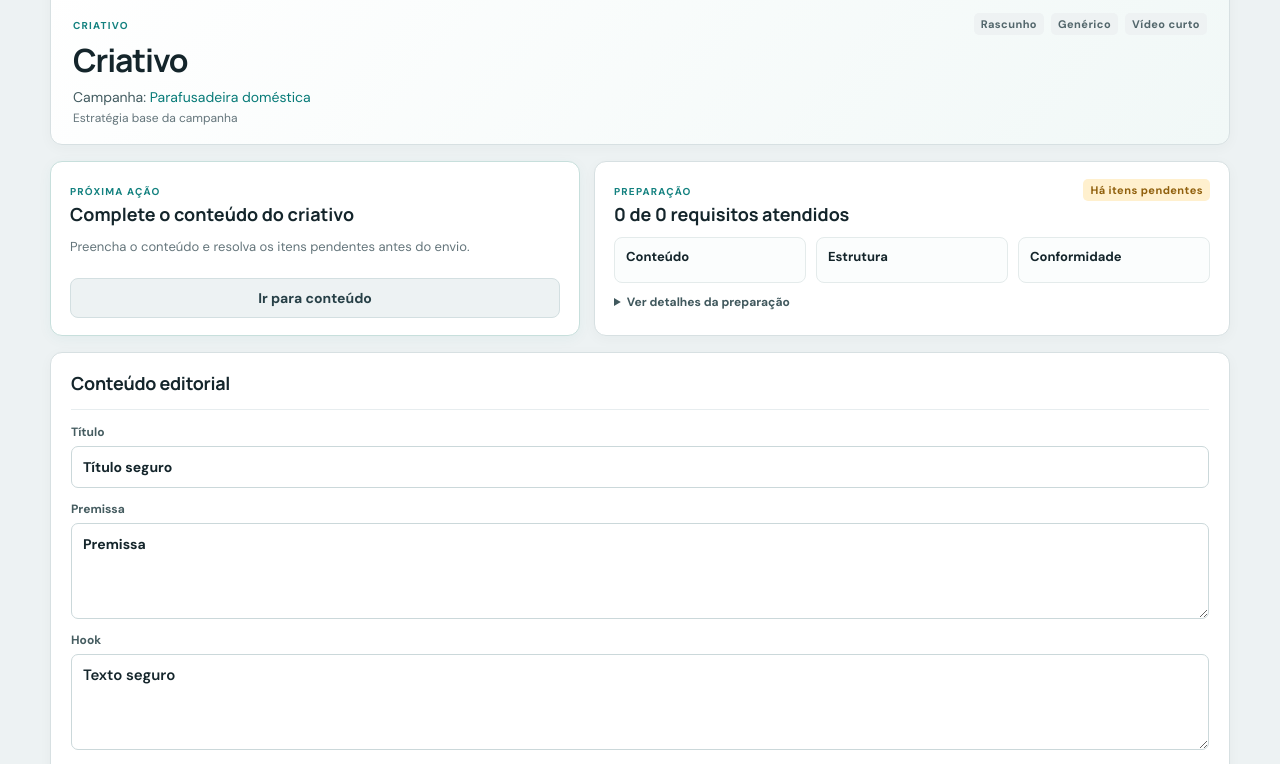
atualização do compliance após salvar › reflete PASS, BLOCK com motivo em pt-BR e PASS novamente
Replace the text in the text box showing "Texto seguro" with "Esta é a melhor parafusadeira do mercado.". click: point(640, 702)
box: x1=71 y1=654 x2=1209 y2=750
(page scrolled)
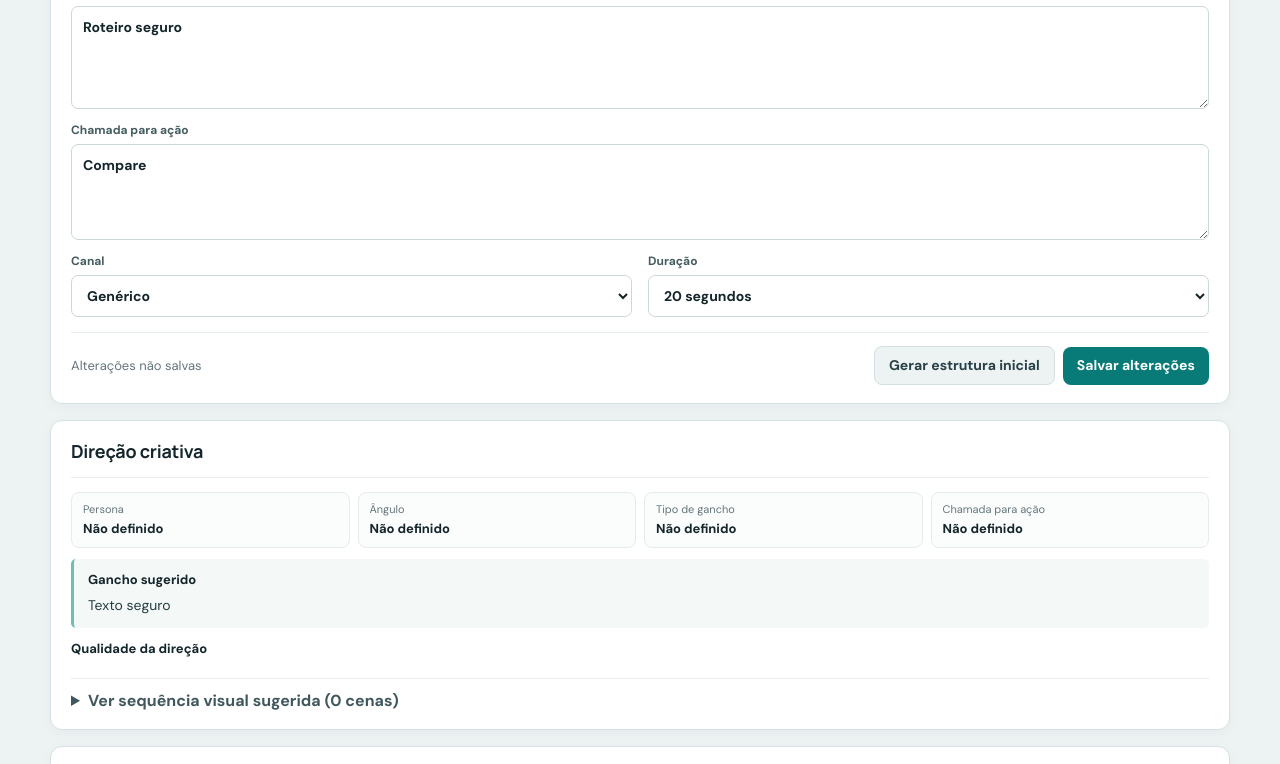
Now the text "Alterações não salvas" is shown, box x1=71 y1=357 x2=202 y2=374
Click the button "Salvar alterações". click: point(1136, 366)
box: x1=1063 y1=347 x2=1209 y2=385
(page scrolled)
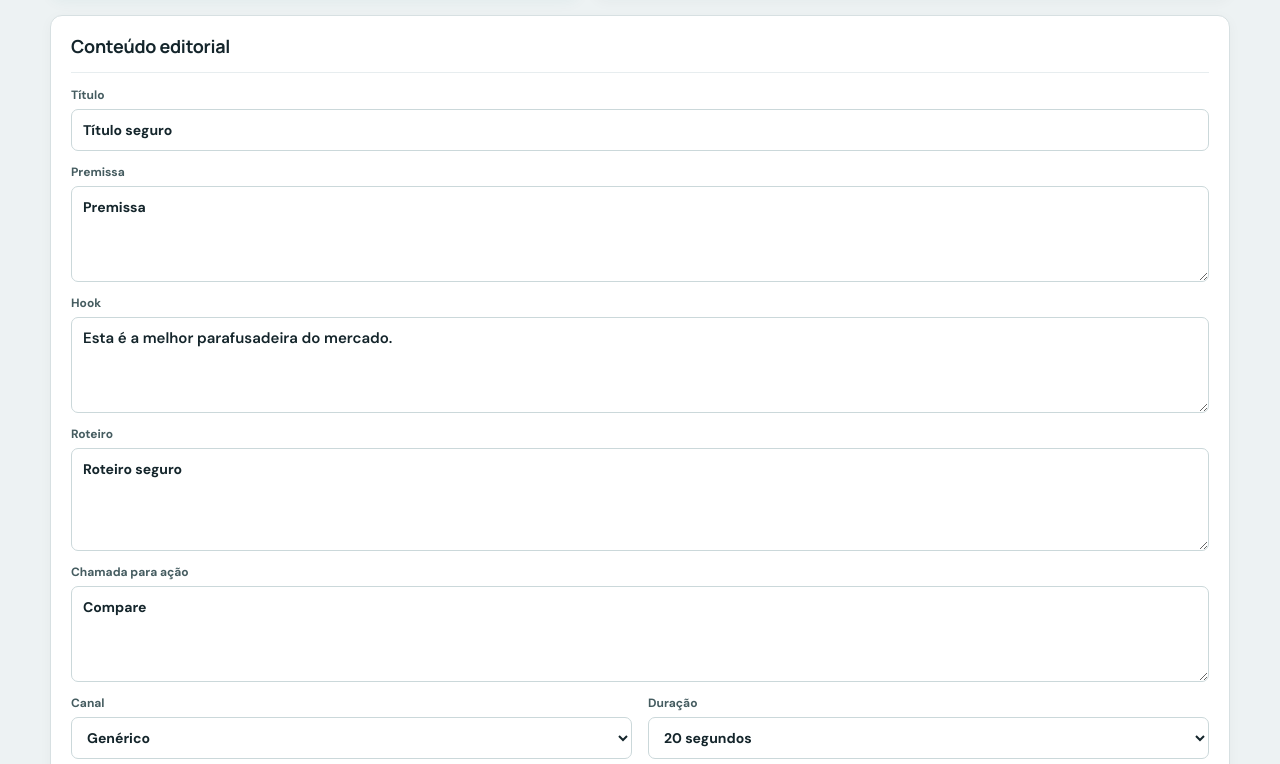
Replace the text in the text box showing "Texto seguro" with "Compare os recursos antes de decidir.". click: point(640, 365)
box: x1=71 y1=317 x2=1209 y2=413
(page scrolled)
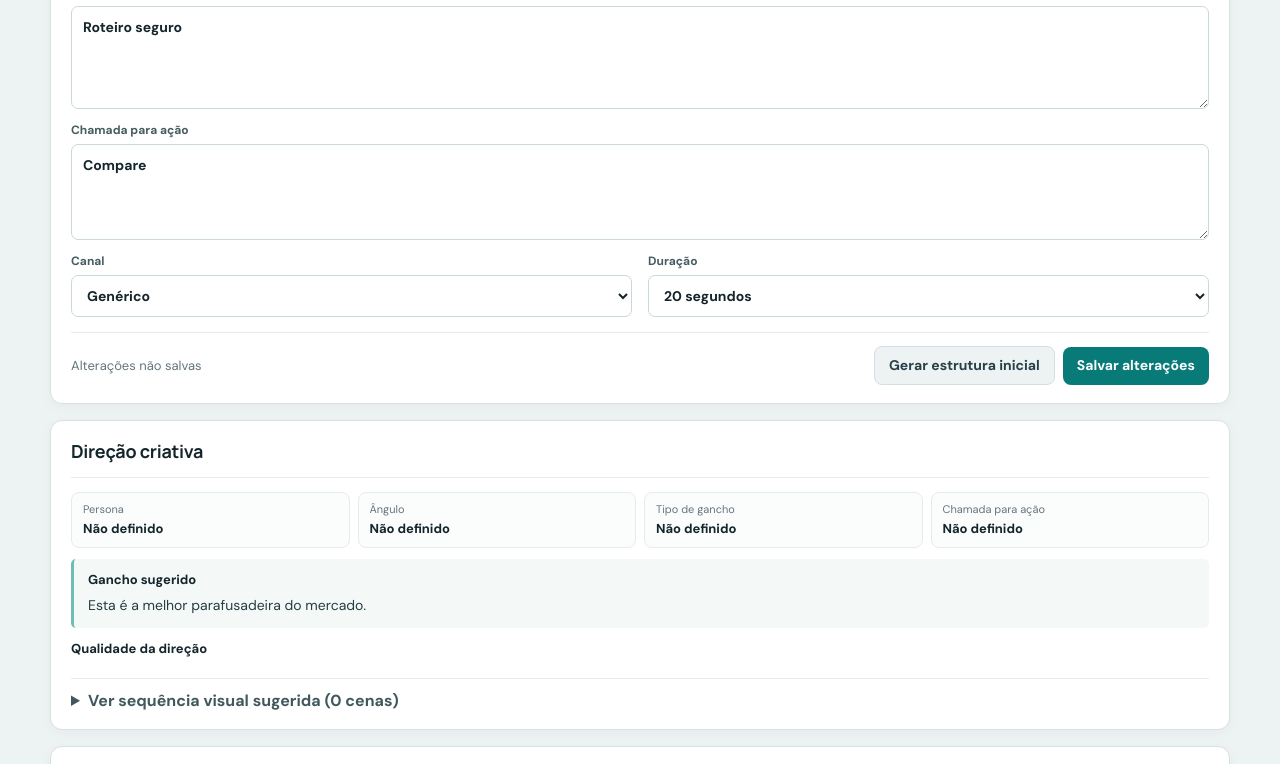
Click the button "Salvar alterações". click: point(1136, 366)
box: x1=1063 y1=347 x2=1209 y2=385
(page scrolled)
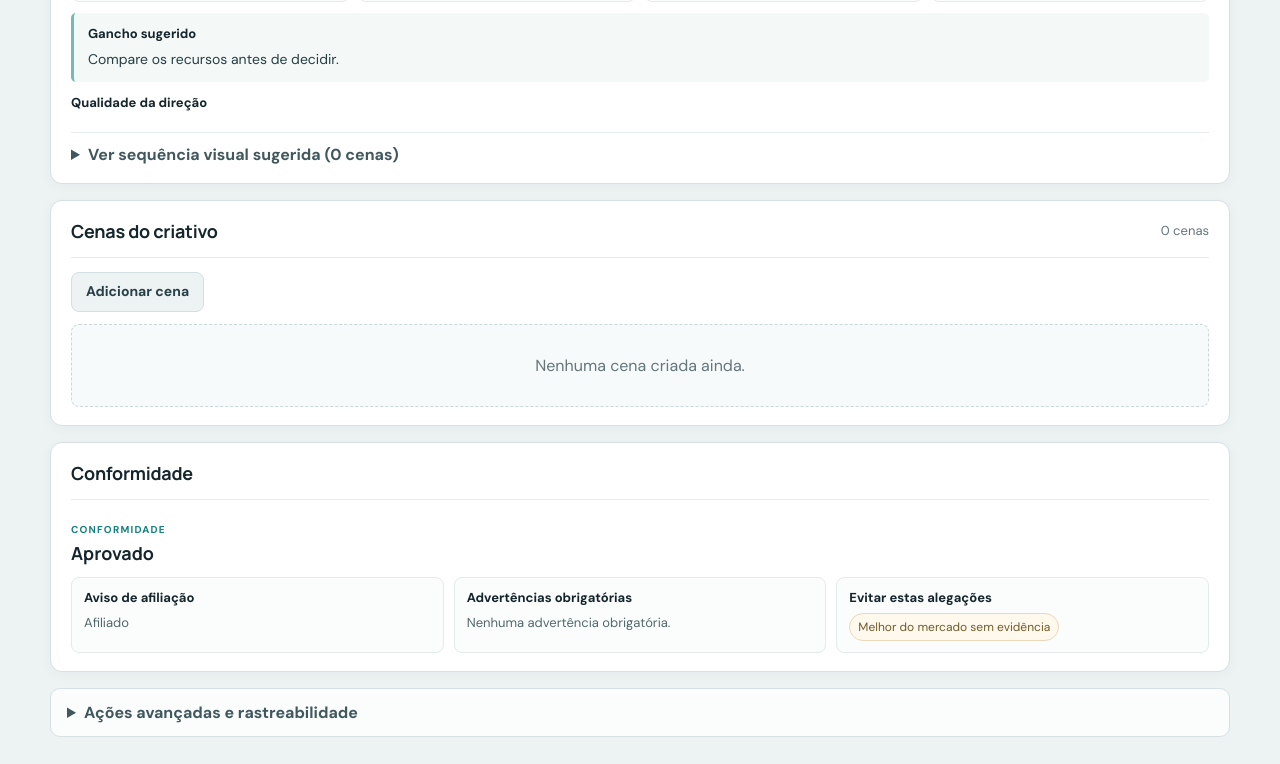
Now the heading "Aprovado" is shown, box x1=71 y1=541 x2=166 y2=565
